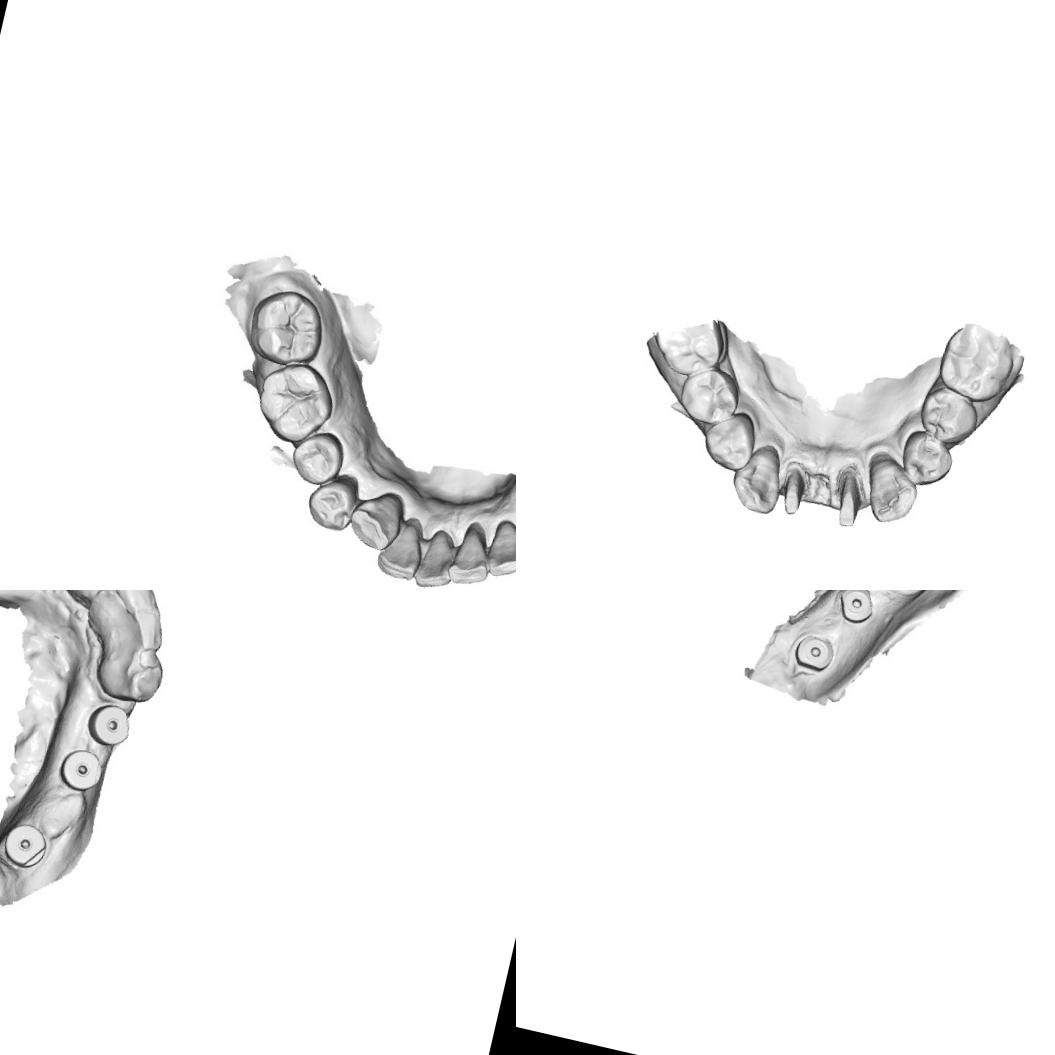canine: (856, 448, 926, 530), (344, 480, 412, 558), (90, 642, 168, 708), (726, 440, 789, 518)
crown: (822, 462, 870, 530), (776, 463, 811, 517)
implant: (0, 816, 51, 871), (84, 699, 137, 751), (56, 742, 106, 796), (790, 628, 842, 676), (833, 590, 880, 627)
incisor: (98, 594, 172, 663), (374, 519, 427, 585), (89, 590, 163, 630), (446, 528, 493, 588), (414, 529, 459, 590), (486, 518, 516, 581), (65, 590, 136, 607)
molar: (249, 352, 344, 452), (238, 282, 333, 374), (931, 316, 1021, 408), (645, 306, 731, 382)
premolar: (674, 360, 745, 430), (914, 381, 984, 450), (697, 404, 762, 475), (302, 471, 364, 538), (896, 426, 958, 492), (287, 428, 348, 490)
